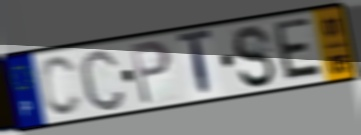C: (77, 46, 128, 114), (39, 54, 85, 119)
E: (273, 15, 326, 83)
P: (128, 37, 173, 108)
S: (230, 23, 278, 91)
T: (175, 27, 215, 101)
